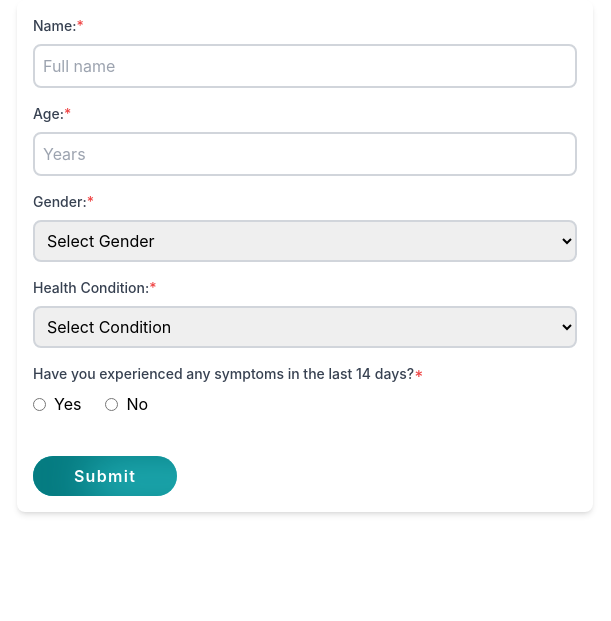
Test: Questionnaire Form › renders the 'List symptoms experienced:' field when 'Have you experienced any symptoms in the last 14 days?' is 'Yes'
# Select "Yes" for the "Have you experienced any symptoms in the last 14 days?" question
Click the radio button named "Yes" at (40, 404), box [33, 398, 46, 410]
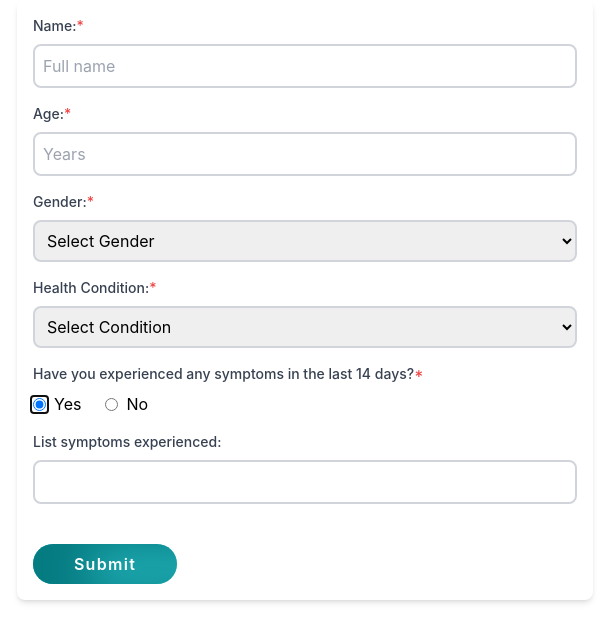
Check: the field labelled "List symptoms experienced:" is shown, box [33, 460, 577, 504]
